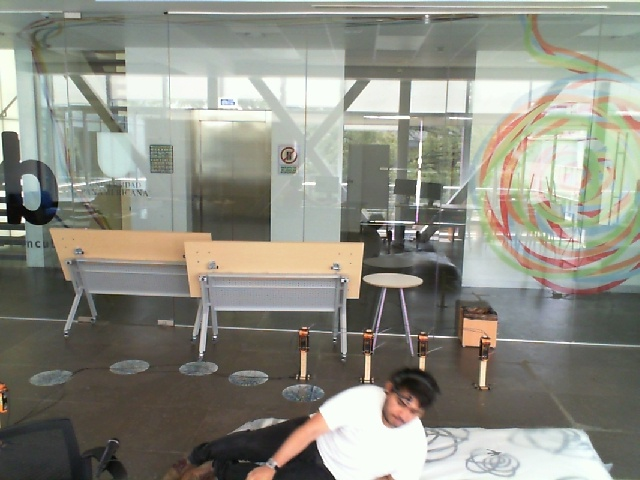fall: (136, 359, 457, 480)
